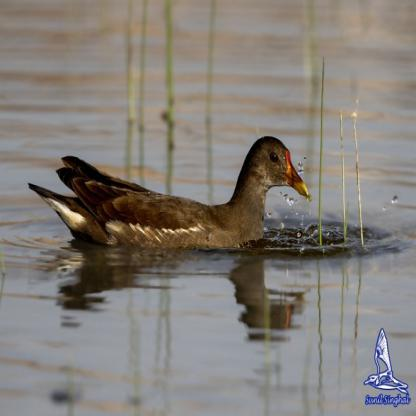Burung: (27, 136, 308, 249)
